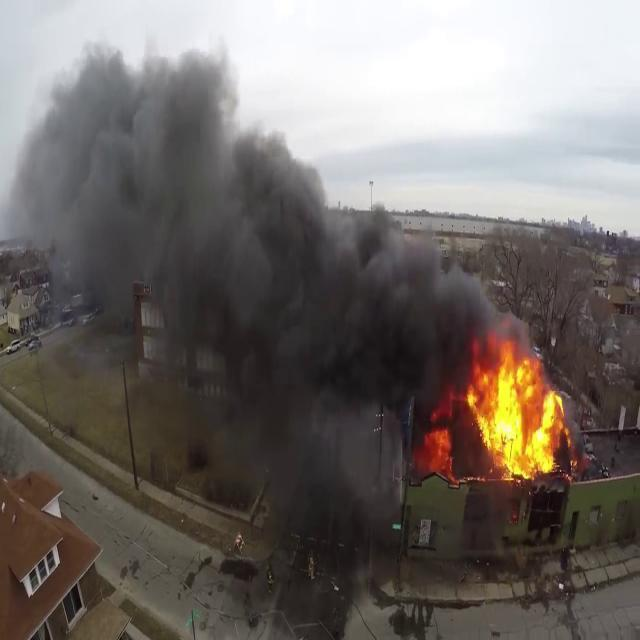Fire: (460, 338, 574, 486)
Smoke: (11, 29, 487, 416)
